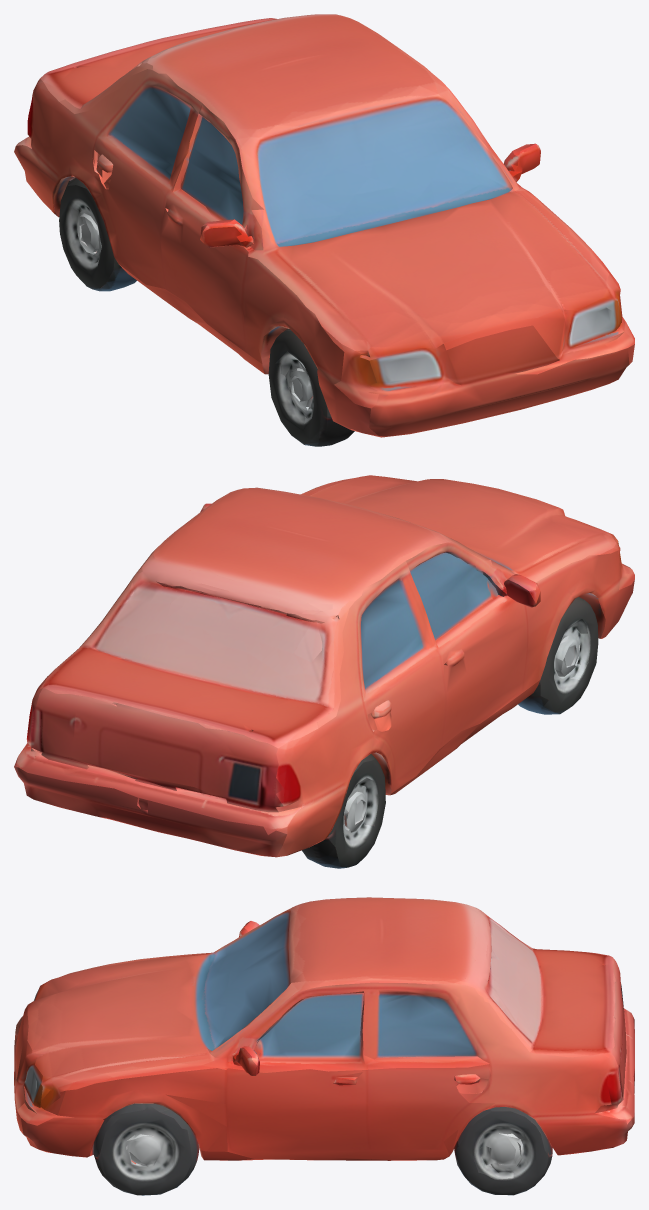
Rendered from MediumCar.glb.
3 renders of one model, top to bottom at view 1: azimuth 30°, elevation 25°; view 2: azimuth 150°, elevation 25°; view 3: azimuth 270°, elevation 25°, orthographic. The views are drawn at different scales.
Parts seen in each view (by area): view 1: geometry_0; view 2: geometry_0; view 3: geometry_0.
Boxes of the visible parts, left/top/right/bottom form: geometry_0: left=14, top=14, right=634, bottom=446; geometry_0: left=14, top=475, right=634, bottom=868; geometry_0: left=14, top=897, right=634, bottom=1195.
Size of the model in its own units: 0.18 by 0.126 by 0.3374.
1 material, 1 textured.
